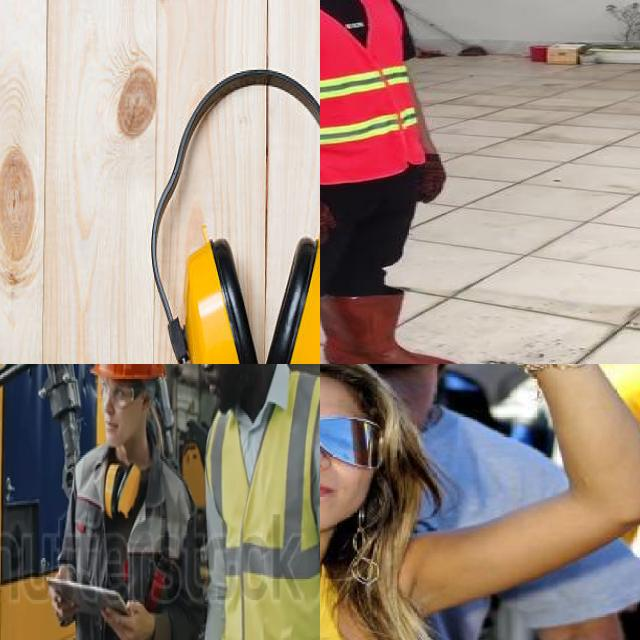Ear-protection: (125, 66, 320, 364), (108, 445, 142, 524)
boots: (320, 294, 458, 364)
face_nomask: (320, 412, 369, 506)
glasses: (320, 411, 373, 462), (96, 376, 144, 414)
hand_glove: (420, 152, 446, 206), (320, 200, 338, 248)
head_nohelmet: (320, 364, 383, 404)
person: (320, 0, 470, 364), (47, 364, 200, 640), (184, 364, 320, 640), (320, 364, 440, 640)
vest: (205, 367, 320, 640), (320, 0, 423, 181)
